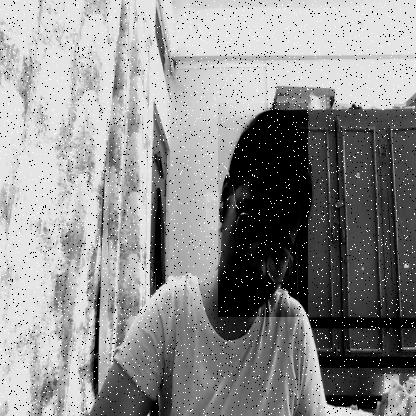Distracted: (218, 103, 308, 317)
